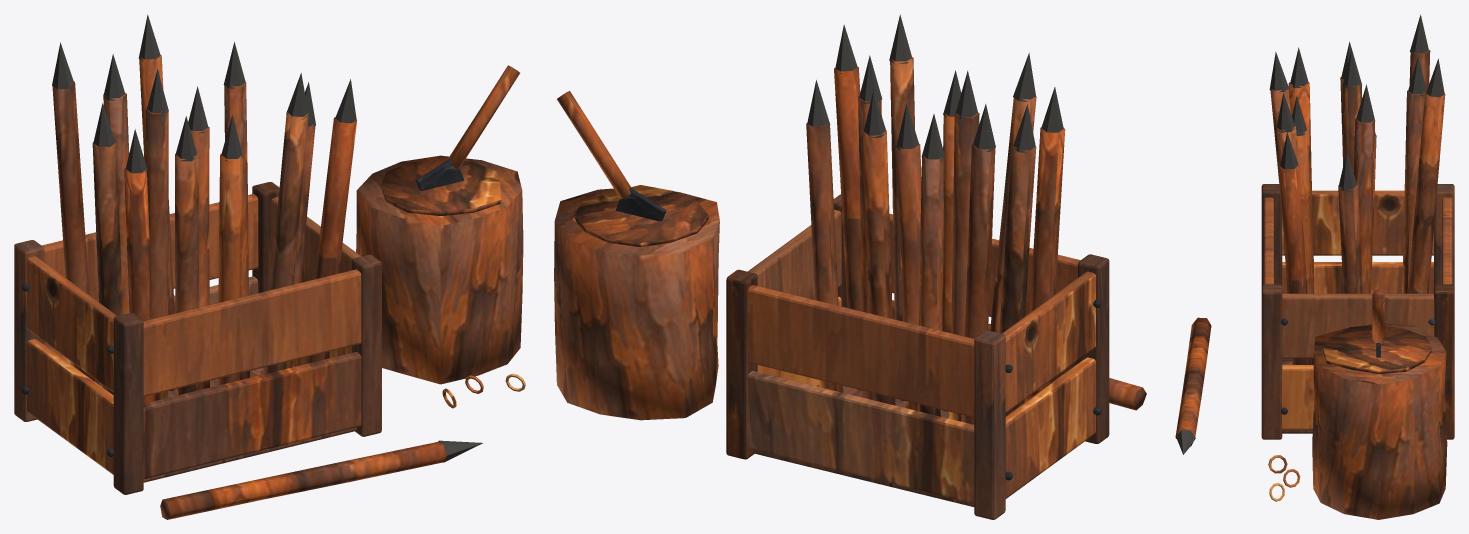
Rendered from op_spike_crate.glb.
The picture shows the model from 3 angles, left to right: view 1: azimuth 30°, elevation 25°; view 2: azimuth 150°, elevation 25°; view 3: azimuth 270°, elevation 25°; orthographic projection. The views are drawn at different scales.
Parts seen in each view (by area): view 1: model; view 2: model; view 3: model.
Part boxes in pixels (box(x1,y1,x2,y2)): model: box(14, 14, 525, 519); model: box(554, 14, 1146, 519); model: box(1175, 14, 1454, 519).
Size of the model in its own units: 1.14 by 0.8861 by 0.6806.
Materials: 17 (16 with a texture image).
